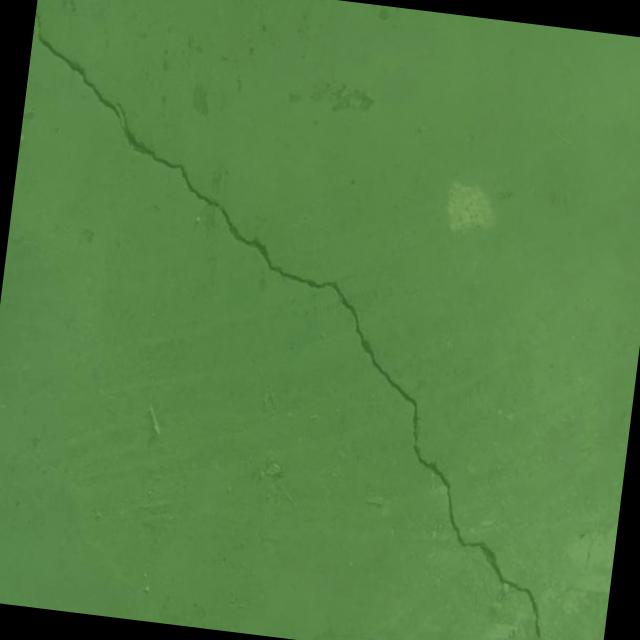crack: (0, 11, 629, 640)
